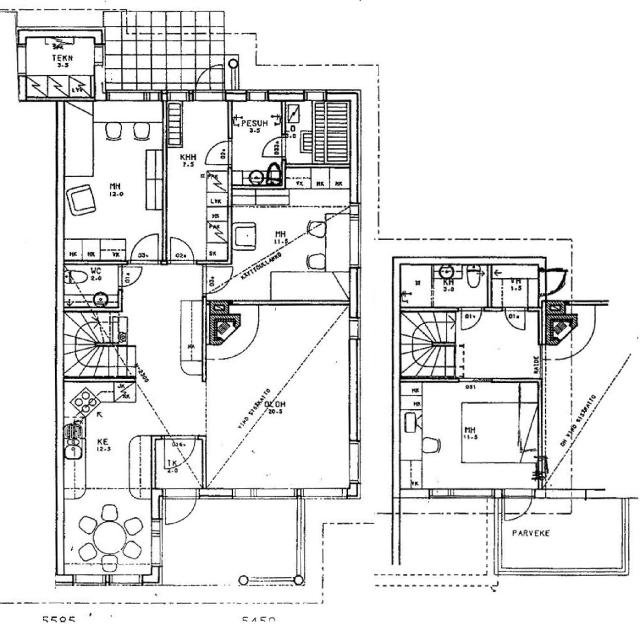door: (162, 489, 198, 527), (128, 230, 162, 263), (503, 492, 534, 522), (167, 235, 196, 264), (170, 436, 198, 466), (203, 138, 232, 166), (540, 268, 568, 297), (458, 306, 484, 332), (503, 306, 527, 332), (333, 267, 354, 295), (120, 265, 144, 288), (261, 136, 283, 158), (128, 486, 143, 501)
window: (72, 577, 107, 588), (16, 44, 27, 78), (348, 316, 362, 342), (109, 578, 145, 588)
zone: (61, 99, 165, 255), (399, 381, 540, 480), (227, 211, 346, 282), (63, 488, 152, 568), (457, 308, 539, 382), (68, 405, 138, 491), (20, 36, 100, 98), (230, 100, 283, 182), (63, 262, 121, 310), (431, 265, 490, 308), (490, 270, 540, 308), (400, 263, 433, 307), (312, 167, 351, 190), (285, 167, 312, 189), (304, 89, 324, 101)
